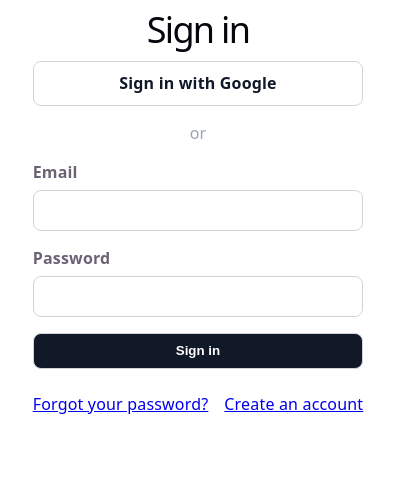
shows an inline error on rejected credentials
Type "jane@example.com" into the field labelled "Email".
click(198, 210); type("jane@example.com")  # box x1=33 y1=190 x2=363 y2=231
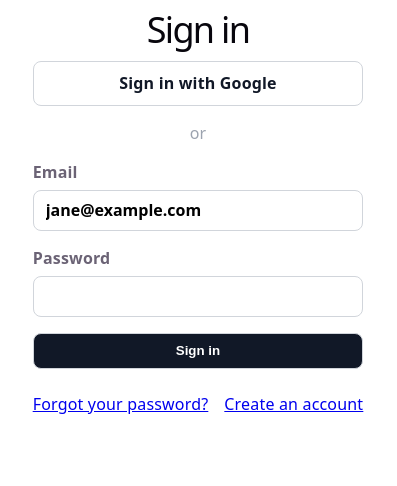
Type "wrong" into the password field labelled "Password".
click(198, 296); type("wrong")  # box x1=33 y1=276 x2=363 y2=317
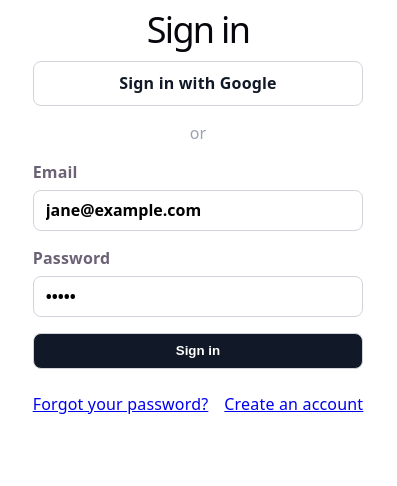
Click the button "Sign in".
click(198, 351)  # box x1=33 y1=333 x2=363 y2=369
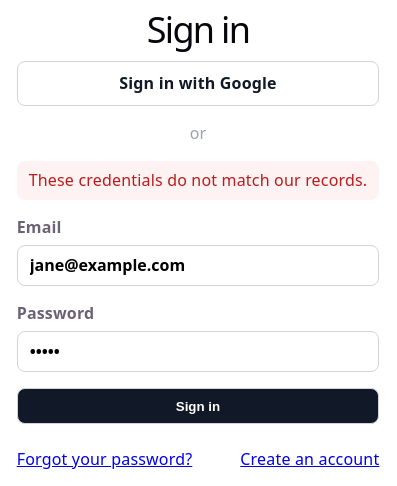
Result: the message shows "credentials do not match" at x1=29 y1=169 x2=367 y2=191
